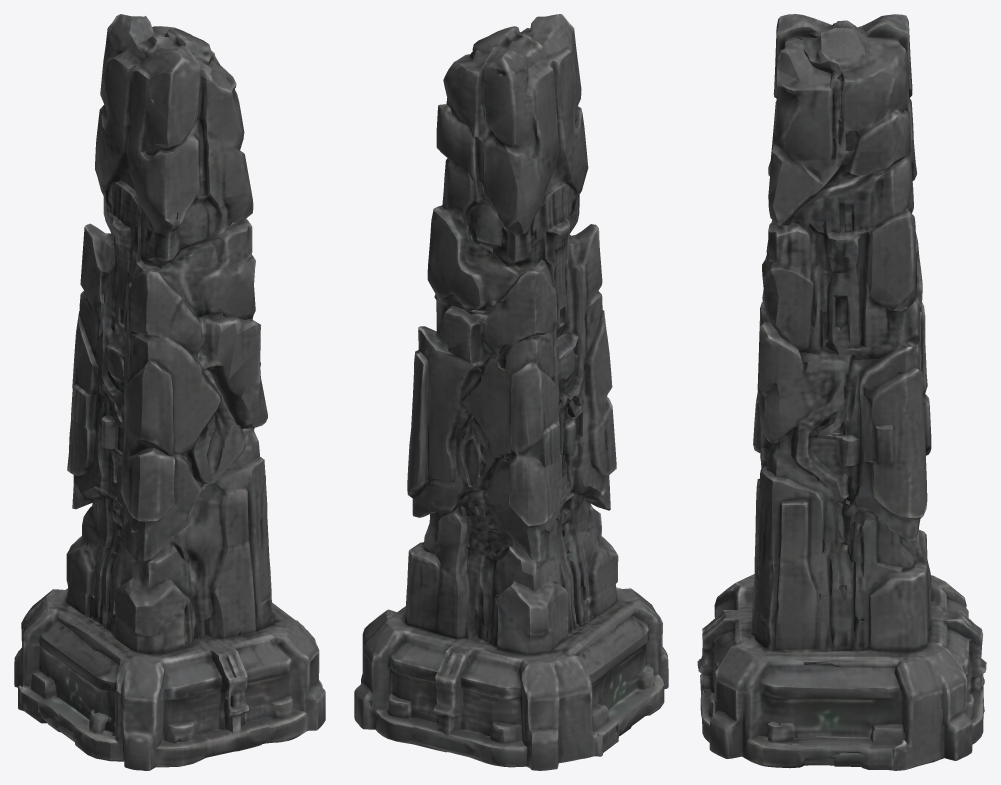
The model's file is exit-obelisk.glb.
3 views of the same model, side by side, from view 1: azimuth 30°, elevation 25°; view 2: azimuth 150°, elevation 25°; view 3: azimuth 270°, elevation 25° (orthographic). The views are drawn at different scales.
Visible parts, largest first — view 1: world; view 2: world; view 3: world.
Part boxes in pixels (x1=…): world: x1=14, y1=14, x2=325, y2=770; world: x1=354, y1=14, x2=668, y2=770; world: x1=697, y1=14, x2=986, y2=770.
Size of the model in its own units: 0.2459 by 0.65 by 0.2478.
Materials: 1 (1 with a texture image).
